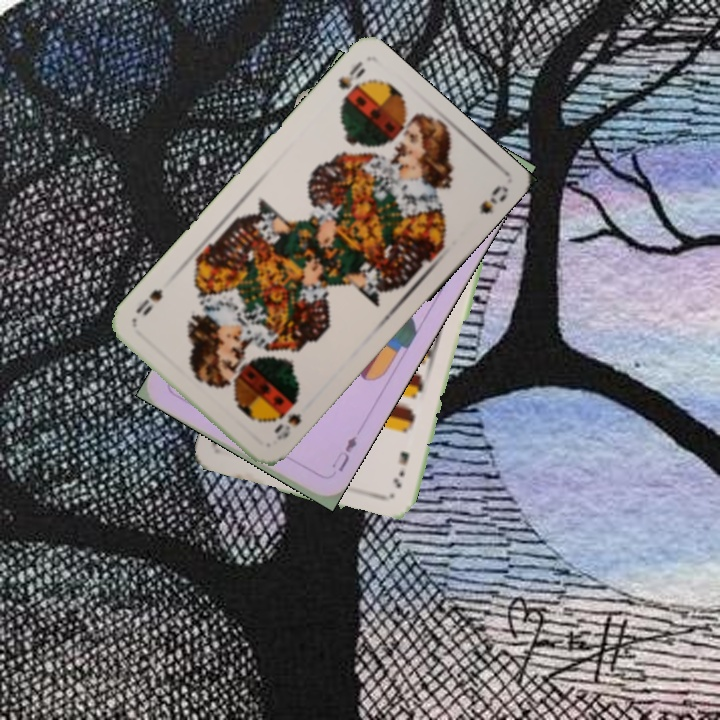E7: (388, 447, 412, 491)
EU: (328, 432, 359, 475)
SO: (269, 396, 304, 443), (333, 57, 368, 104)
